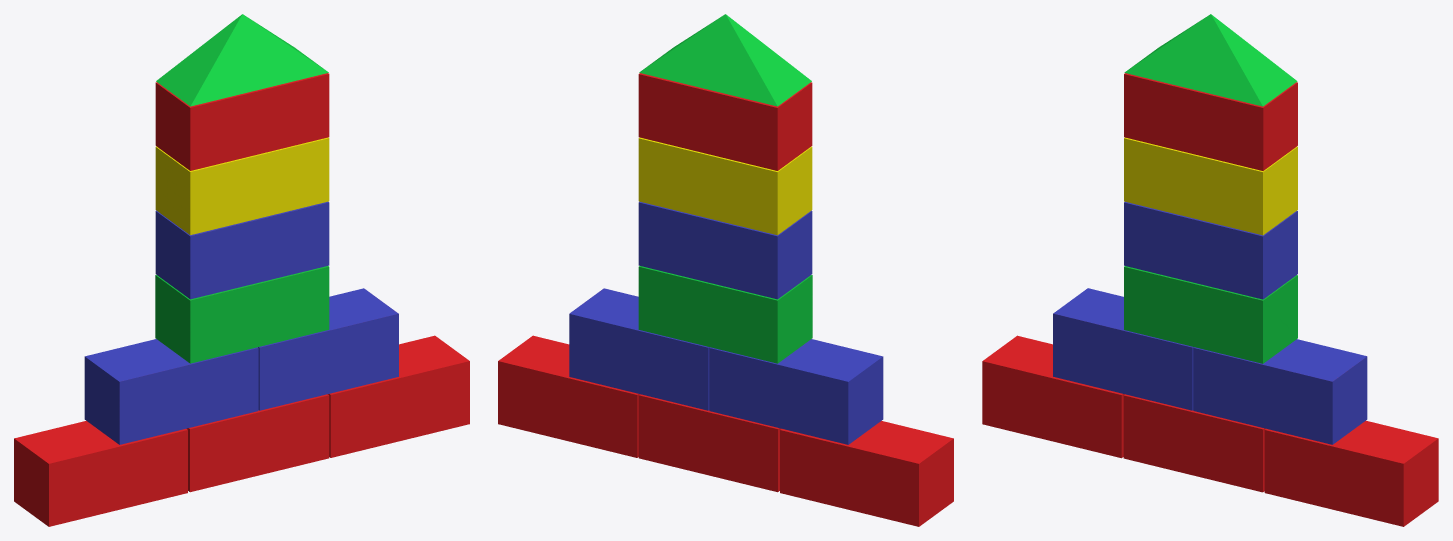
3 views of the same model, side by side, from view 1: azimuth 30°, elevation 25°; view 2: azimuth 150°, elevation 25°; view 3: azimuth 330°, elevation 25° (orthographic).
Visible parts, largest first — view 1: node_id5, node_id92, node_id131, node_id101, node_id107, node_id20, node_id86, node_id95, node_id11, node_id32; view 2: node_id5, node_id92, node_id131, node_id101, node_id107, node_id20, node_id86, node_id95, node_id11, node_id32; view 3: node_id86, node_id95, node_id131, node_id101, node_id107, node_id20, node_id5, node_id92, node_id11, node_id32.
Part boxes in pixels (box(x1,y1,x2,y2)): node_id5: box(14, 421, 187, 526); node_id92: box(84, 339, 258, 444); node_id131: box(155, 73, 329, 170); node_id101: box(155, 266, 329, 363); node_id107: box(155, 137, 329, 234); node_id20: box(155, 201, 329, 299); node_id86: box(328, 335, 469, 457); node_id95: box(258, 288, 398, 410); node_id11: box(186, 394, 329, 492); node_id32: box(156, 14, 328, 106); node_id5: box(780, 421, 953, 526); node_id92: box(709, 339, 883, 444); node_id131: box(638, 73, 812, 170); node_id101: box(638, 266, 812, 363); node_id107: box(638, 137, 812, 235); node_id20: box(638, 201, 812, 299); node_id86: box(498, 335, 639, 457); node_id95: box(569, 288, 709, 410); node_id11: box(638, 394, 781, 492); node_id32: box(639, 14, 811, 106); node_id86: box(1264, 420, 1438, 526); node_id95: box(1193, 339, 1367, 444); node_id131: box(1124, 73, 1297, 170); node_id101: box(1124, 266, 1297, 363); node_id107: box(1124, 137, 1297, 235); node_id20: box(1124, 201, 1297, 299); node_id5: box(982, 335, 1124, 458); node_id92: box(1053, 288, 1193, 410); node_id11: box(1123, 394, 1265, 492); node_id32: box(1124, 14, 1297, 106).
Bounding box in the file's own units: 0.6957 × 0.7086 × 0.0996.
Materials: 8 (8 with a texture image).
